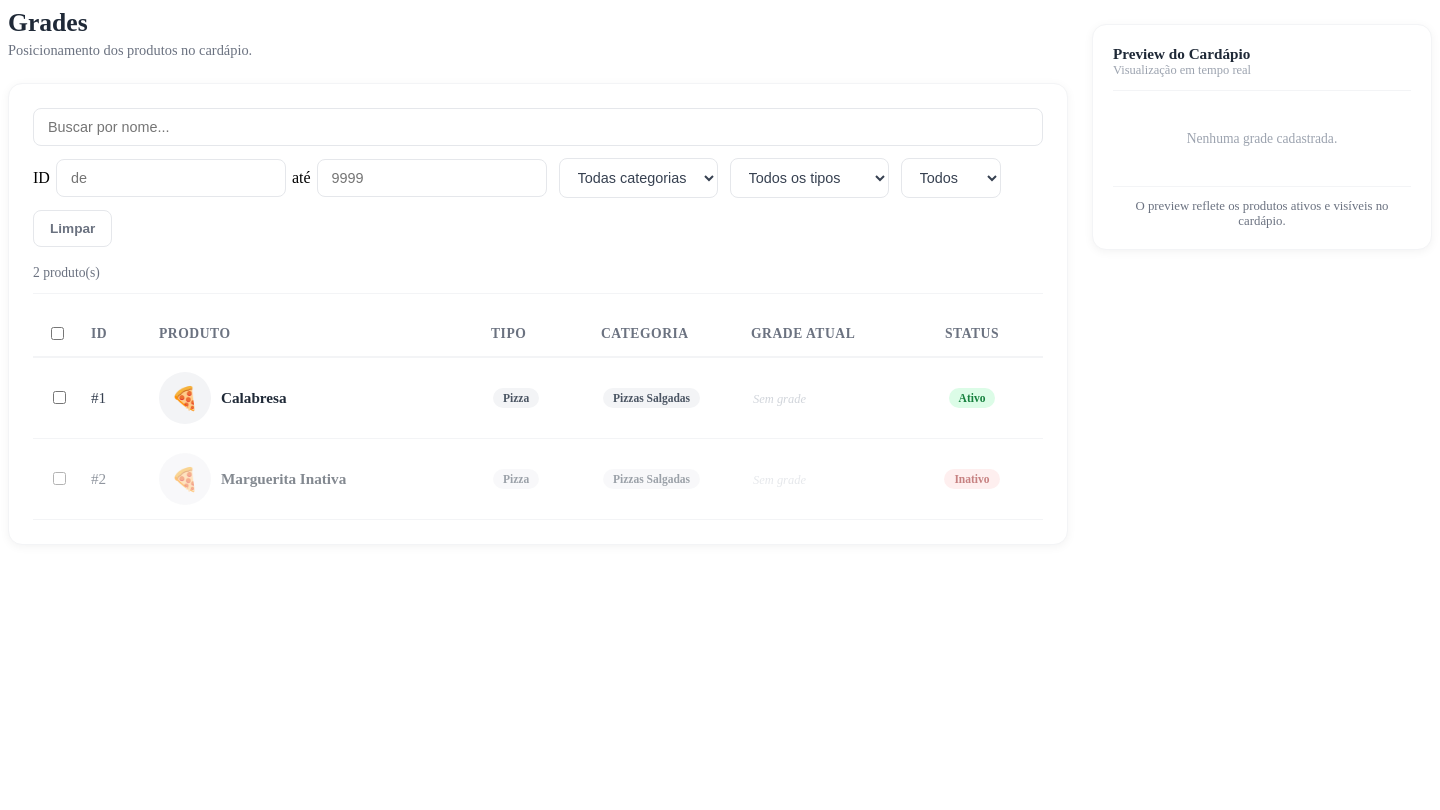
AdminGrades › barra de movimentação só aparece com algo selecionado
Check: the text "Calabresa" is shown, box [221, 389, 286, 406]
Check: the text "produto(s) selecionado(s)" is not shown
Click the checkbox in the row of "Calabresa".
click(60, 398)  # box [53, 391, 66, 404]
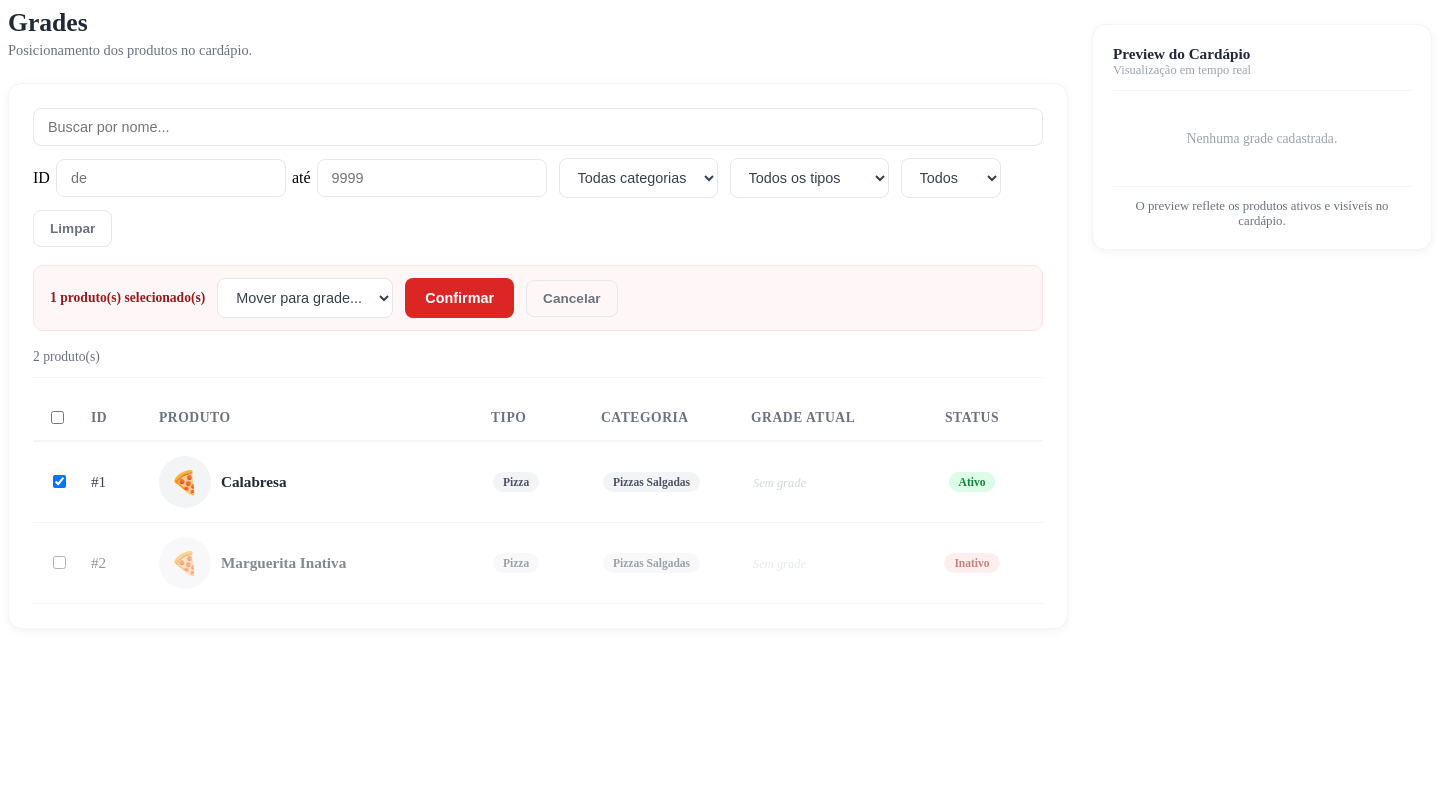
Check: the text "1 produto(s) selecionado(s)" is shown, box [50, 290, 205, 306]
